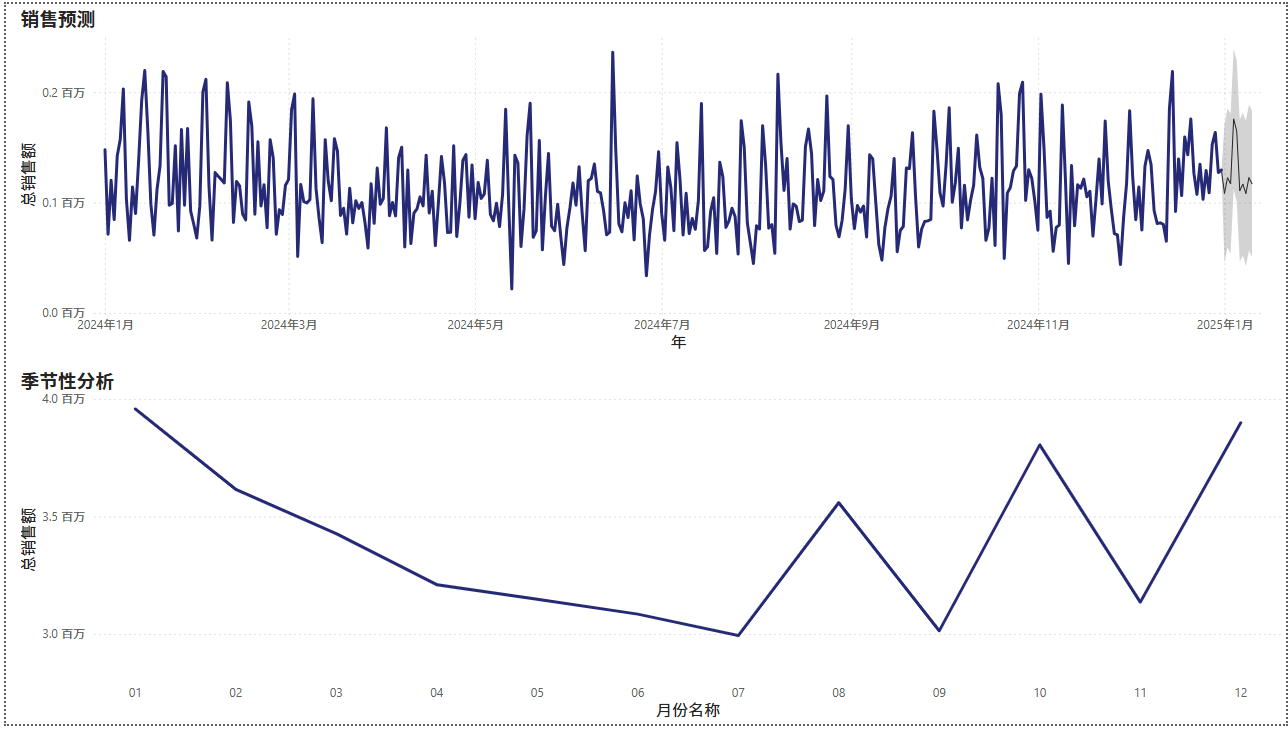

Layout of this report page (visuals, bound fields, positions):
{"tool":"powerbi","page":{"name":"预测分析","canvas":[1280,720],"ordinal":3},"visuals":[{"type":"lineChart","title":"销售预测","fields":{"Y":["日期表.总销售额"],"Category":["日期表.Date.变体.日期层次结构.年","日期表.Date.变体.日期层次结构.季度","日期表.Date.变体.日期层次结构.月份","日期表.Date.变体.日期层次结构.日"]},"box":[9.7,0,1270.3,352.1],"z":0},{"type":"lineChart","title":"季节性分析","fields":{"Y":["日期表.总销售额"],"Category":["日期表.月份名称"]},"box":[9.7,361.8,1270.3,357.9],"z":1000}]}

Visuals, with their boxes in screenshot pixels (x1, y1, x2, y2), scaled from the page's 1280x720 canvas onto the 1288x729 screenshot:
"销售预测" lineChart: select_region(10, 0, 1287, 357)
"季节性分析" lineChart: select_region(10, 366, 1287, 728)
